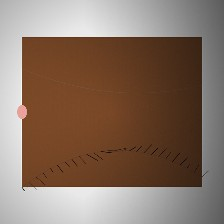hemorrhage_spot: (45, 97, 126, 163)
